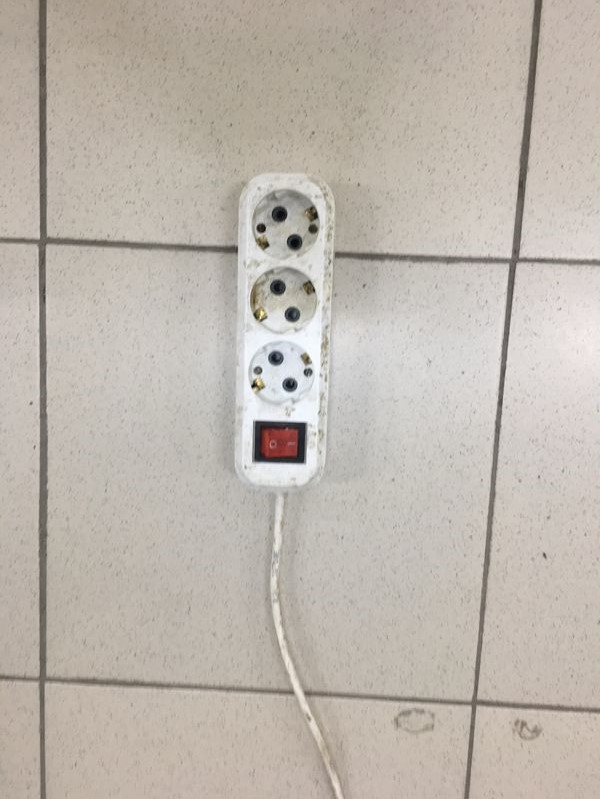socket: (223, 166, 340, 500)
